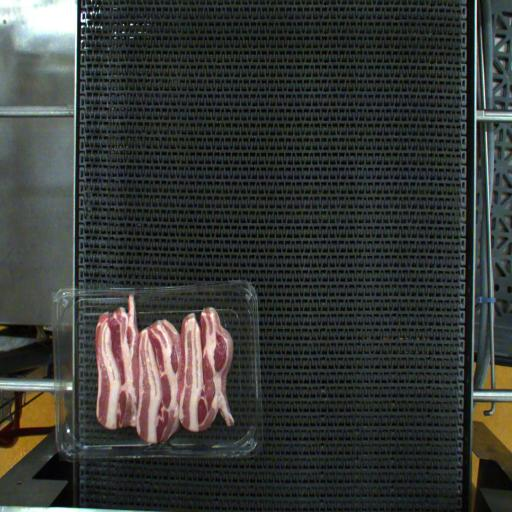packaging-error: (138, 432, 181, 460)
